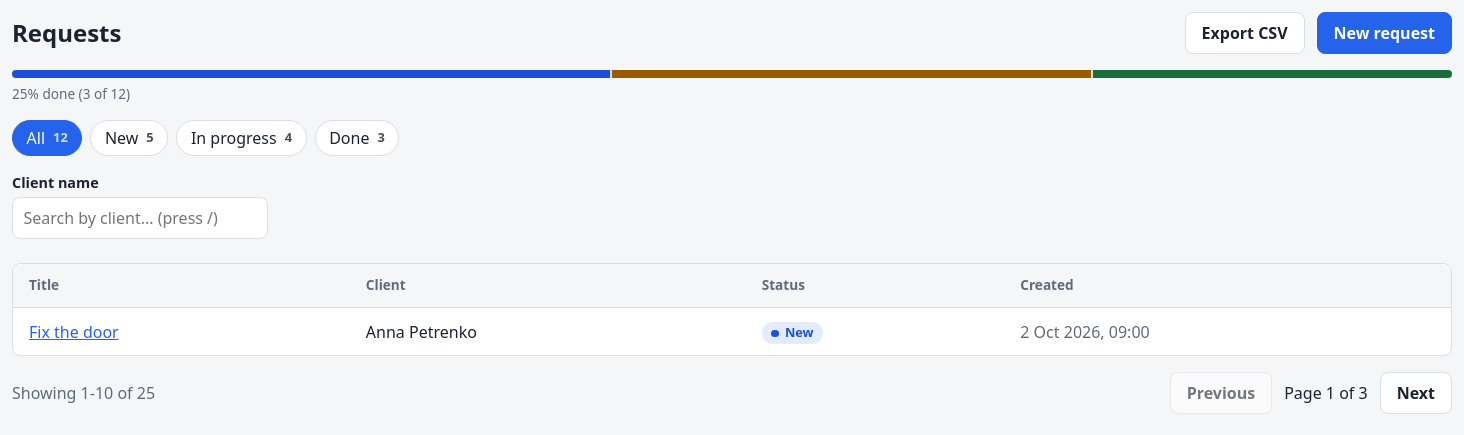
Test: RequestsPage › shows the pager and loads the next page
The image size is (1464, 435).
Check: the text "Showing 1-10 of 25" is shown, box [12, 381, 155, 405]
Click the button "Next" at {"x": 1416, "y": 393}, box [1380, 372, 1452, 414]
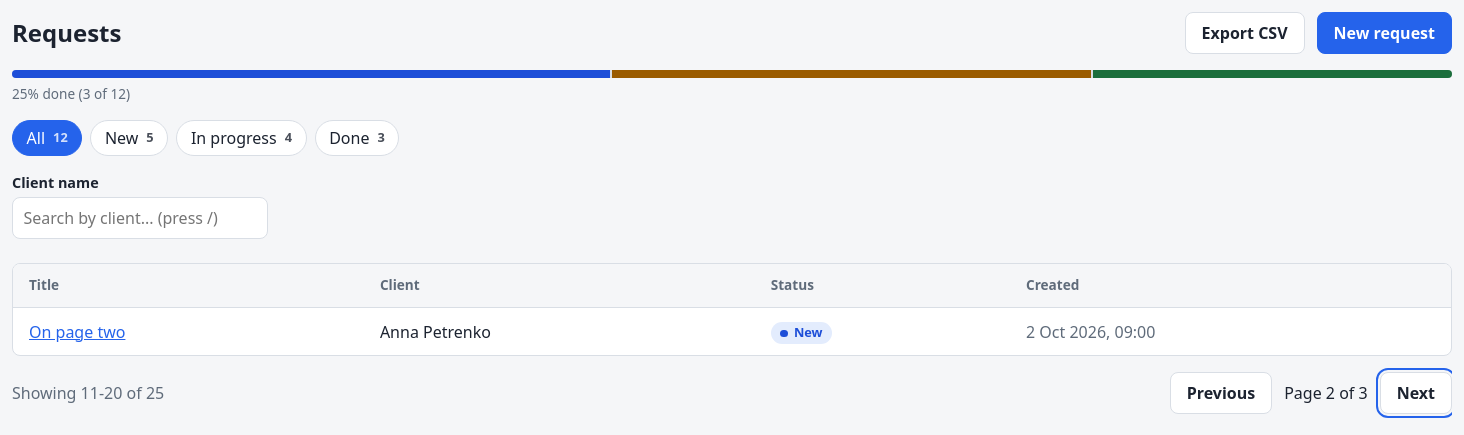
Check: the link "On page two" is shown, box [29, 320, 125, 342]
Check: the text "Page 2 of 3" is shown, box [1284, 381, 1368, 405]
